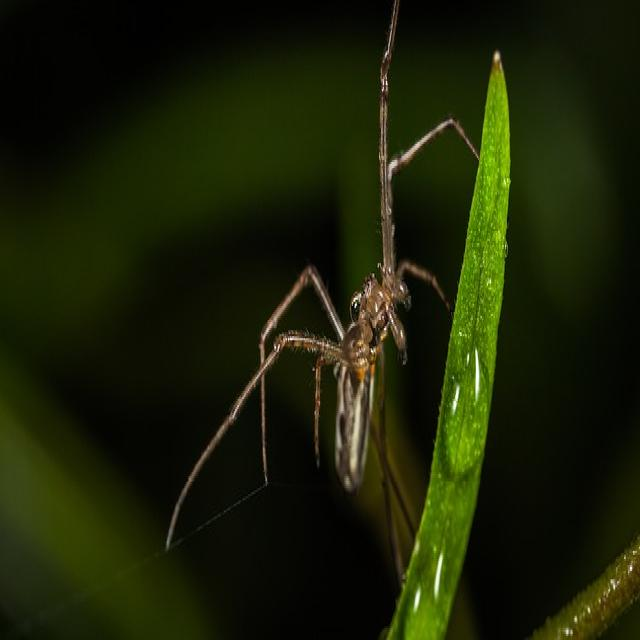spyder: (170, 0, 479, 541)
